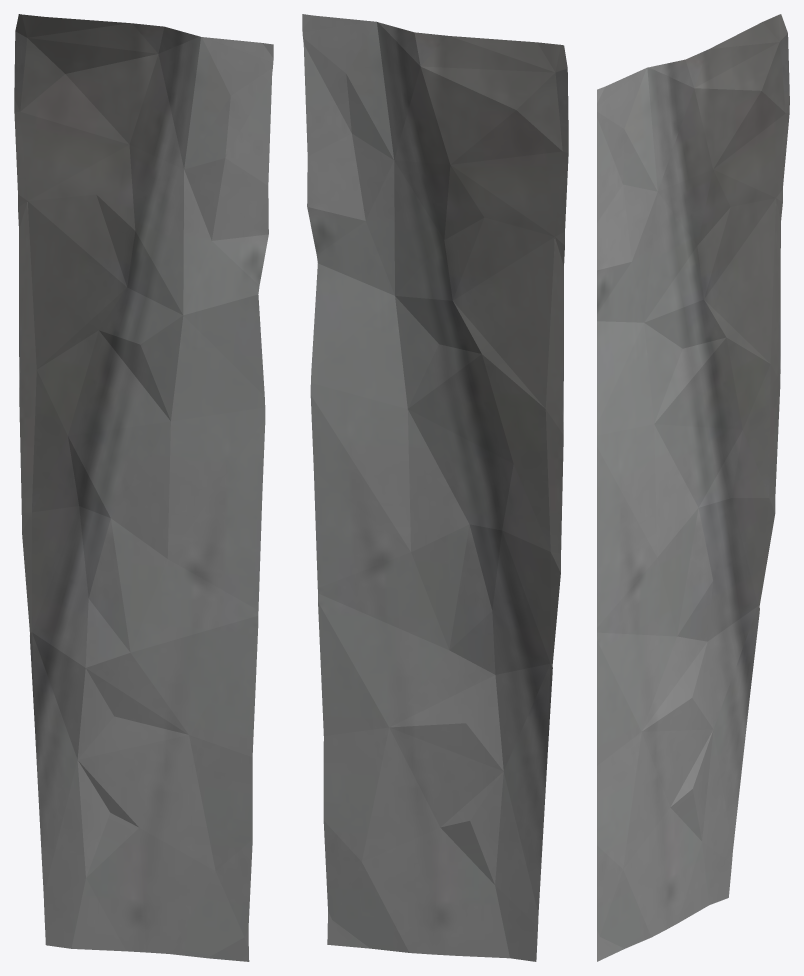
The picture shows the model from 3 angles, left to right: view 1: azimuth 30°, elevation 25°; view 2: azimuth 210°, elevation 25°; view 3: azimuth 270°, elevation 25°; orthographic projection. The views are drawn at different scales.
Size of the model in its own units: 0.1537 by 0.8374 by 0.1656.
Materials: 1 (1 with a texture image).
